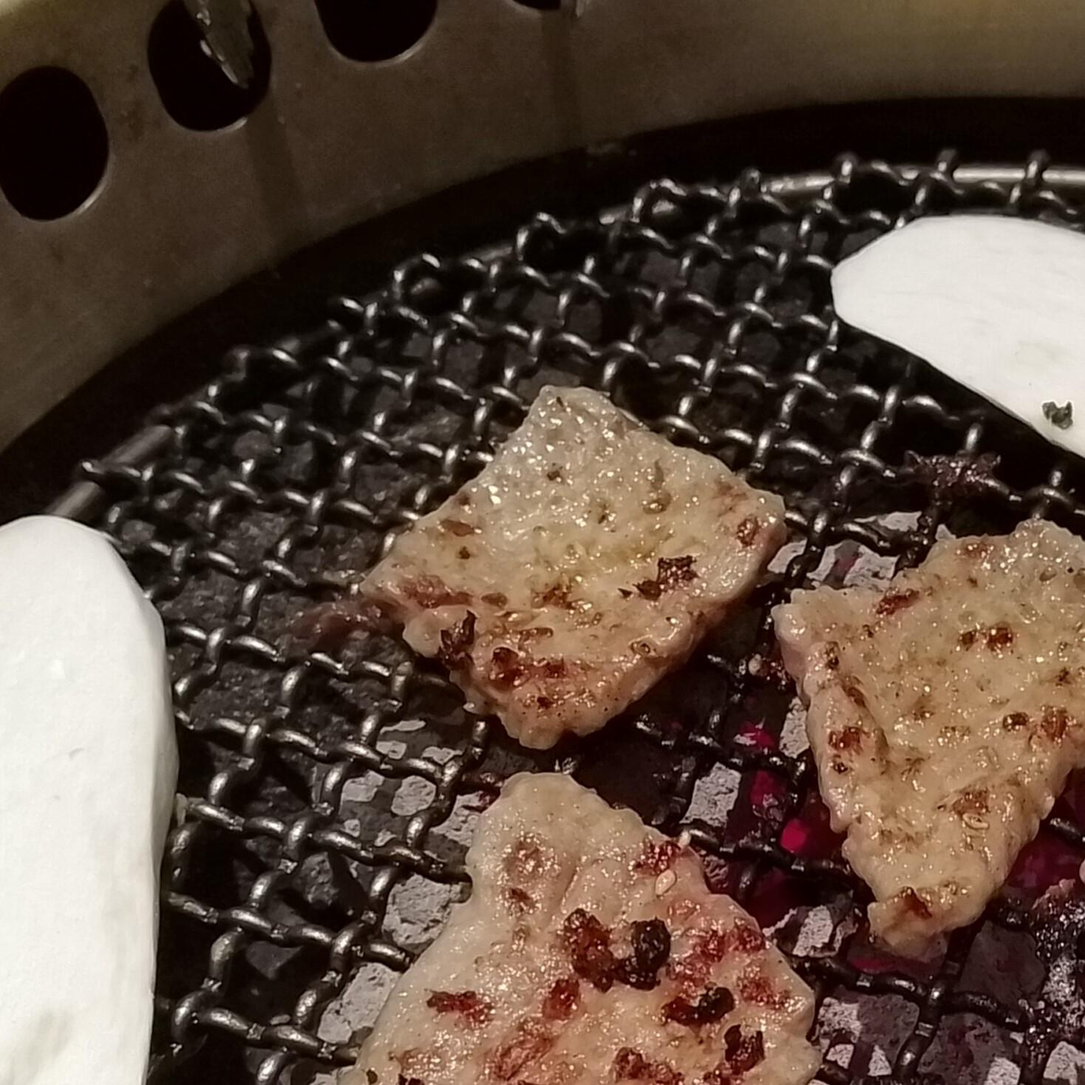Overcooked: (295, 384, 803, 769), (317, 772, 825, 1084)
Well-Cooked: (768, 515, 1084, 950)
